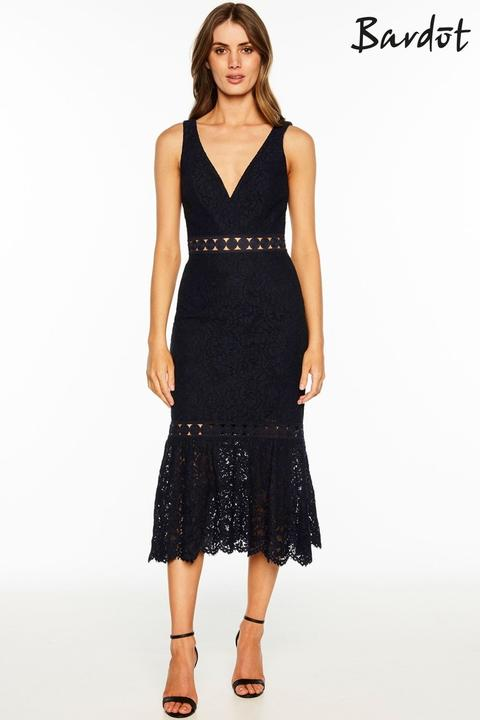S_dress: (125, 114, 340, 587)
